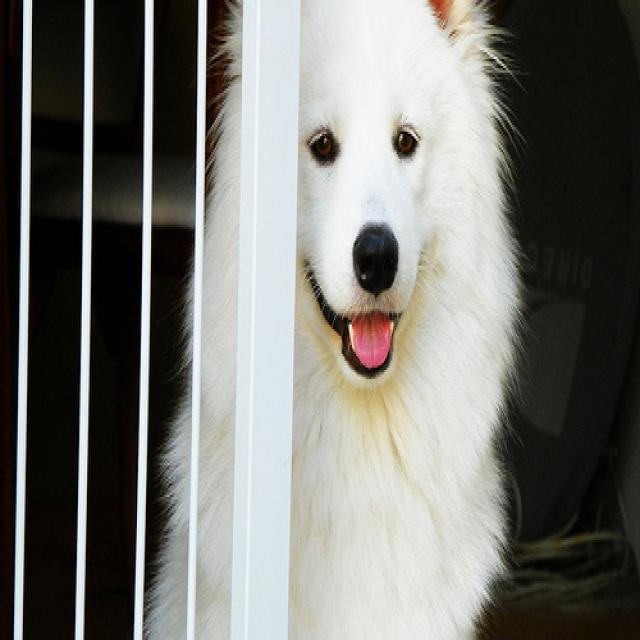dog-samoyed: (129, 2, 530, 635)
